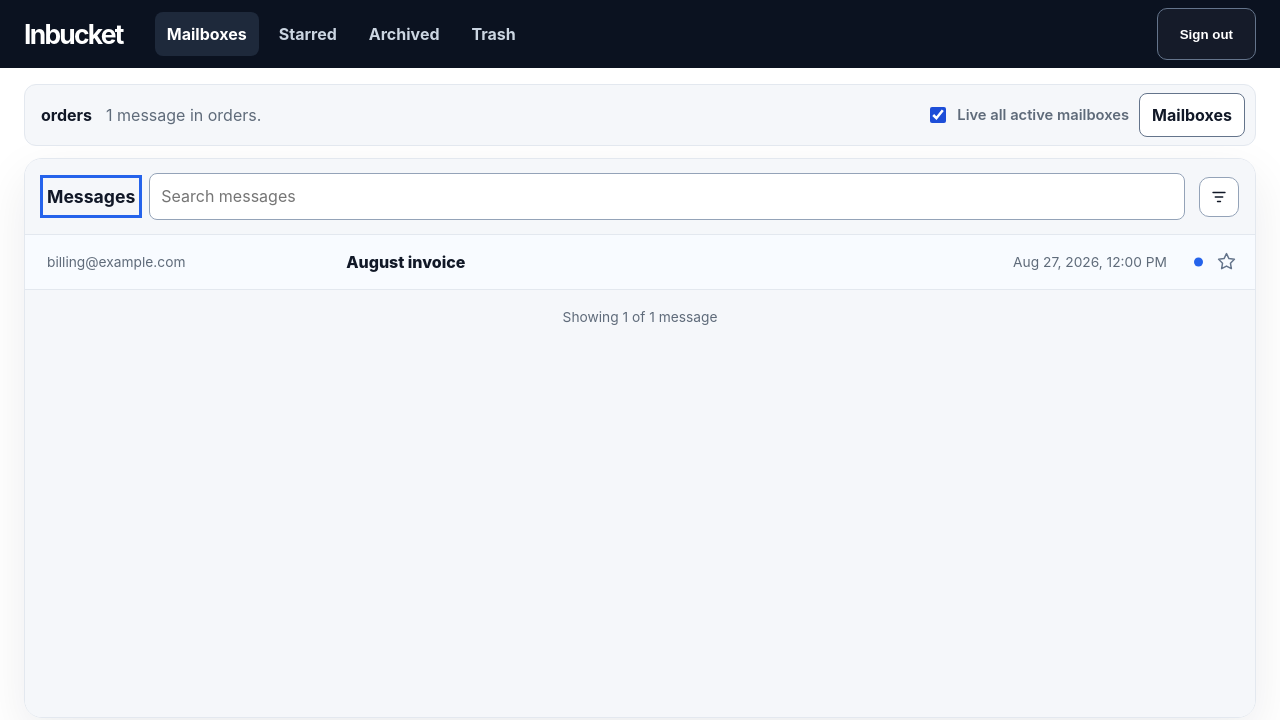
Live Mailboxes › retains an arrival received while Mailboxes is hidden
Expected: the button with aria-label "Unread: August invoice" is shown, 25,235 -> 1255,289
What coordinates should you click on to do the following:
click the button "Archived"
I would click on:
 (404, 34)
Its box is 357,12 -> 452,56.
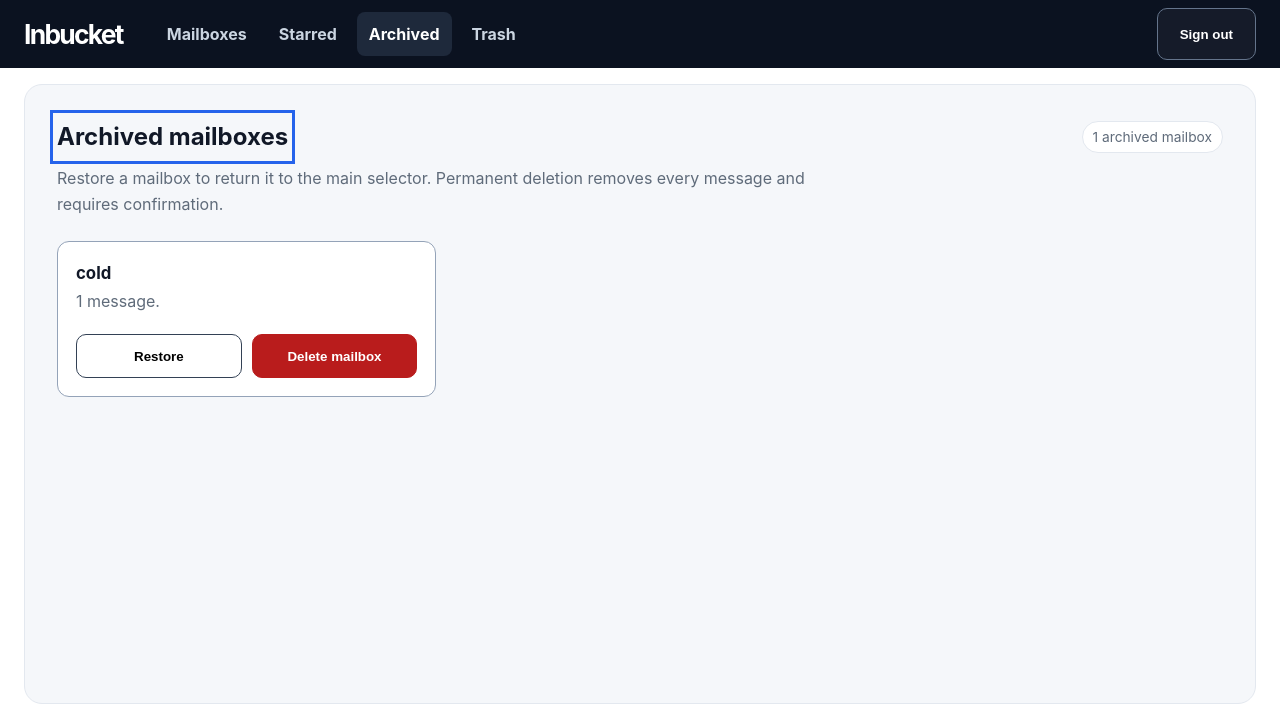
Expected: the heading "Archived mailboxes" is shown, 57,117 -> 288,157
What coordinates should you click on to do the following:
click the button "Mailboxes"
I would click on:
 (207, 34)
Its box is 155,12 -> 259,56.
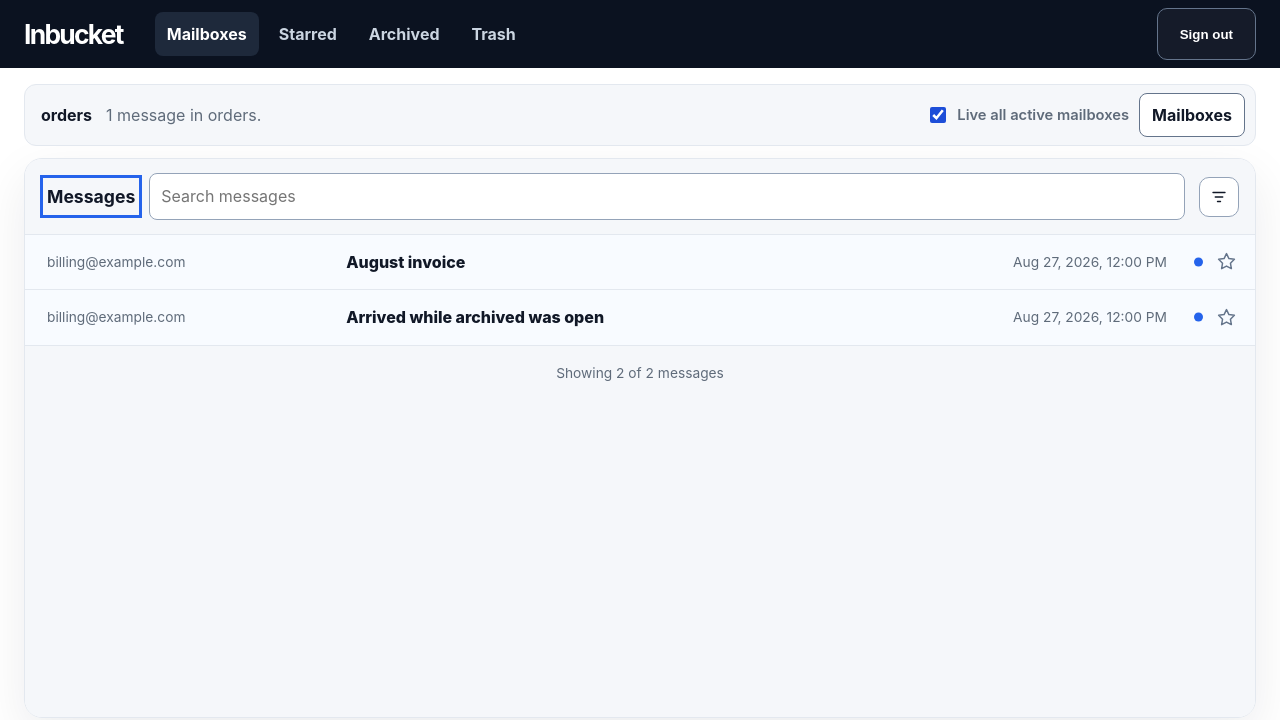
Expected: the button with aria-label "Unread: Arrived while archived was open" is shown, 25,290 -> 1255,345
